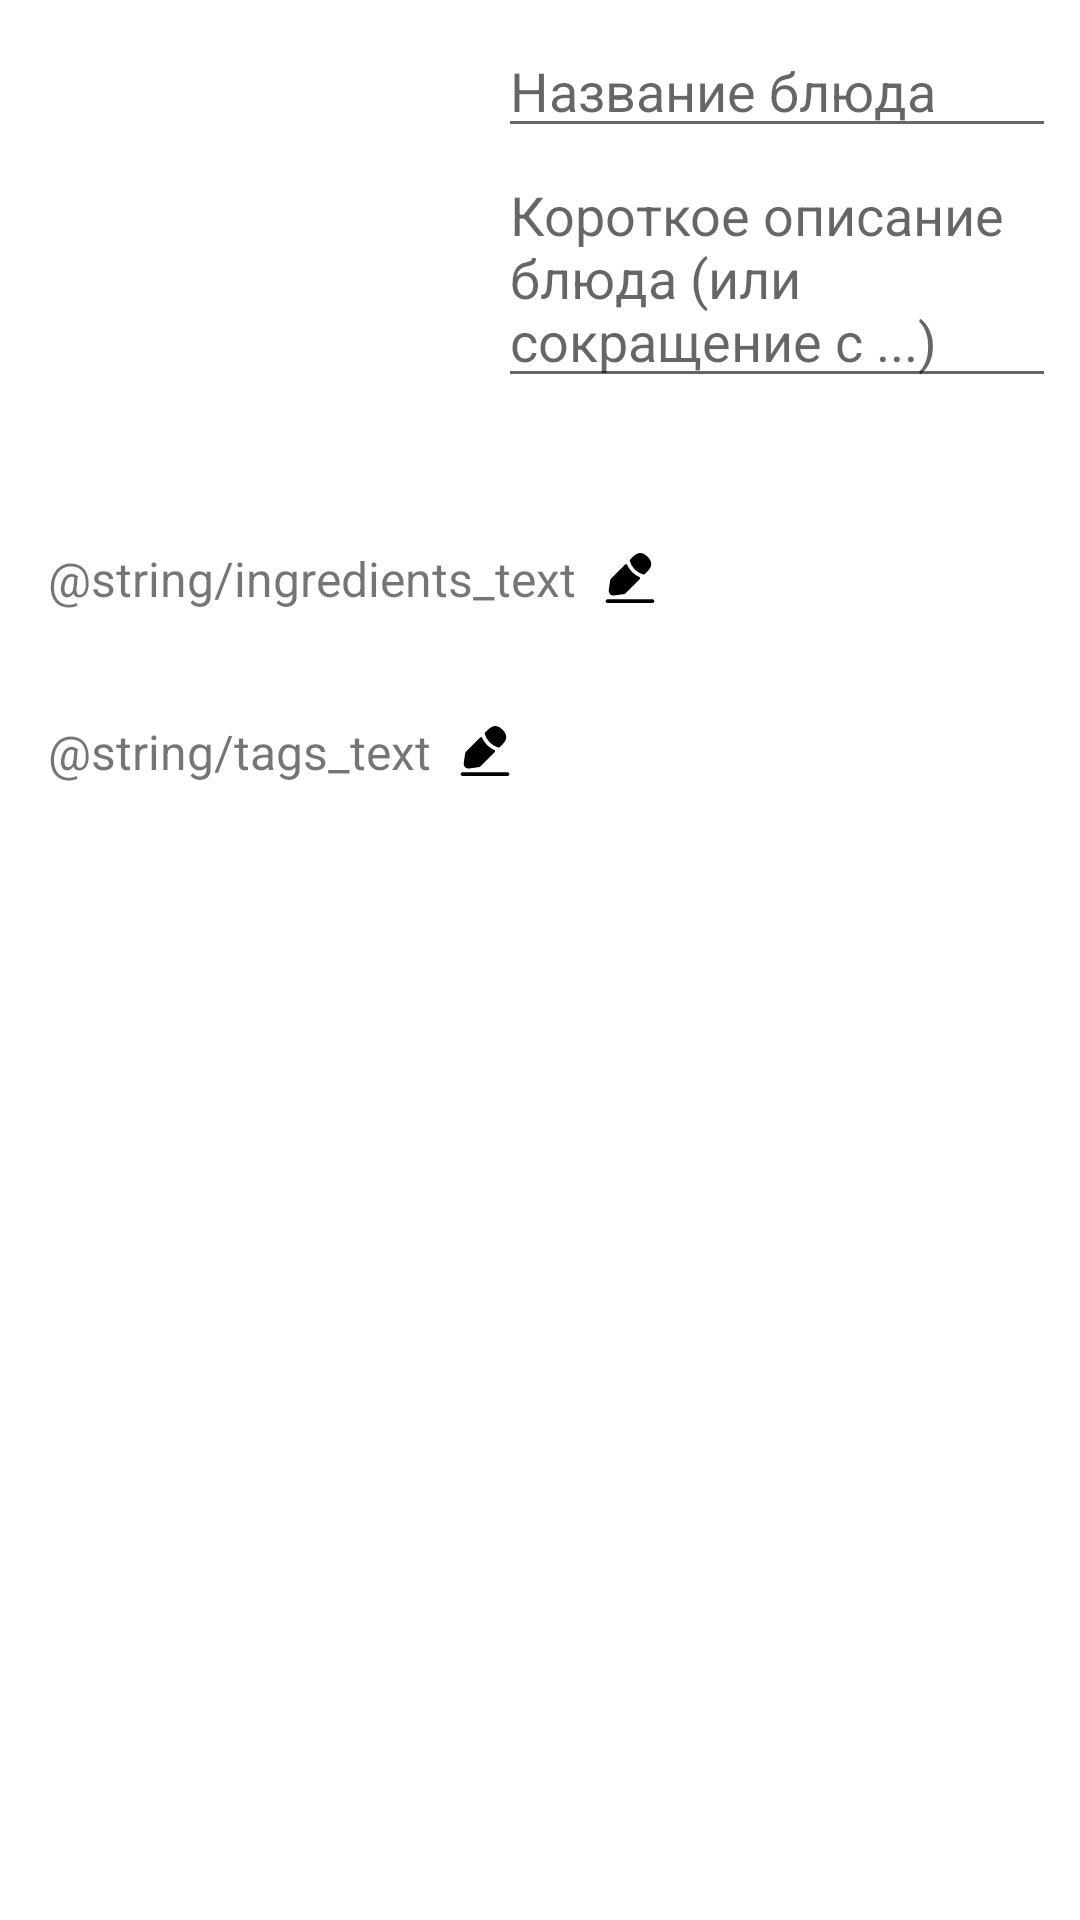

Locate icon controls on the screen. Image size 1080px x 1920px, boxes as {"left": x1, "top": y1, "right": x2, "bottom": y2}.
edit: {"left": 605, "top": 553, "right": 655, "bottom": 603}, {"left": 460, "top": 726, "right": 510, "bottom": 776}
